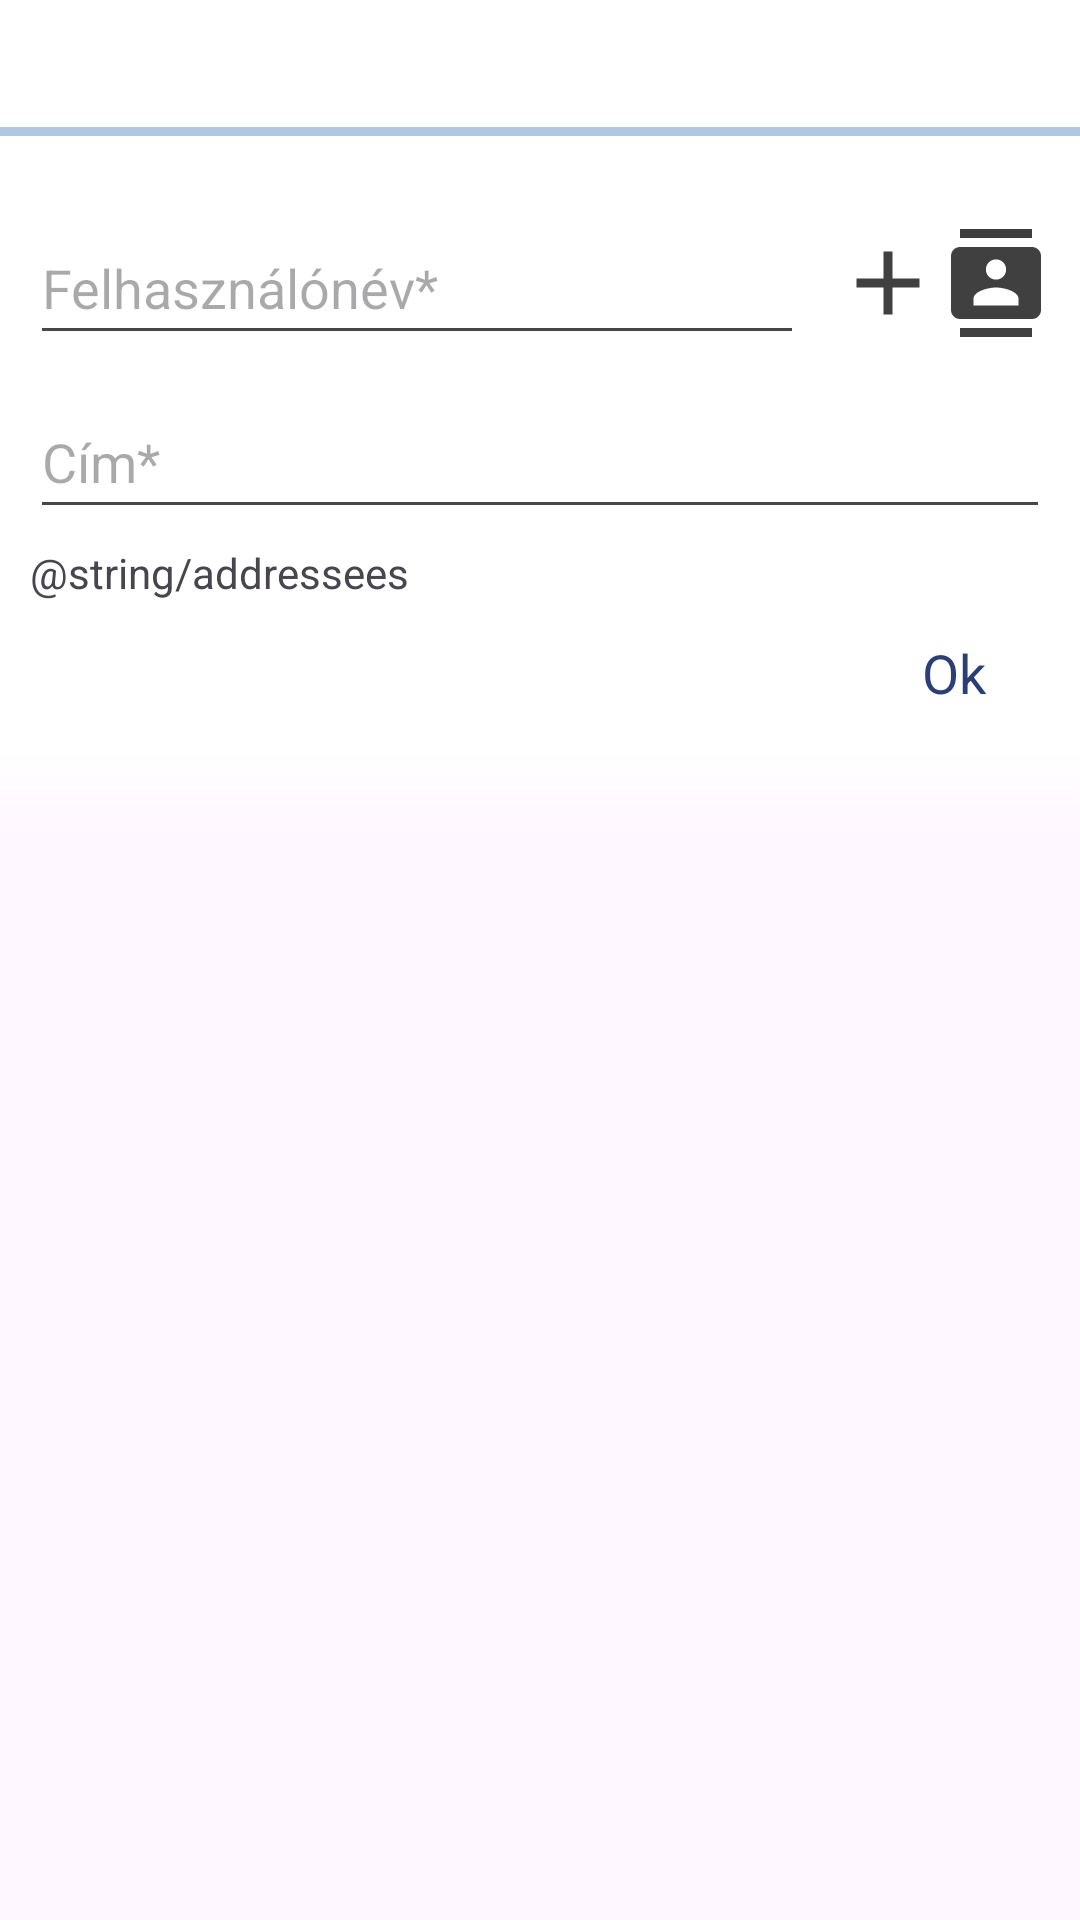

Where to tap for icons on this 1080px×1920px app screen, as (x=x, y=y):
add: (x=888, y=283)
contacts: (x=996, y=283)
